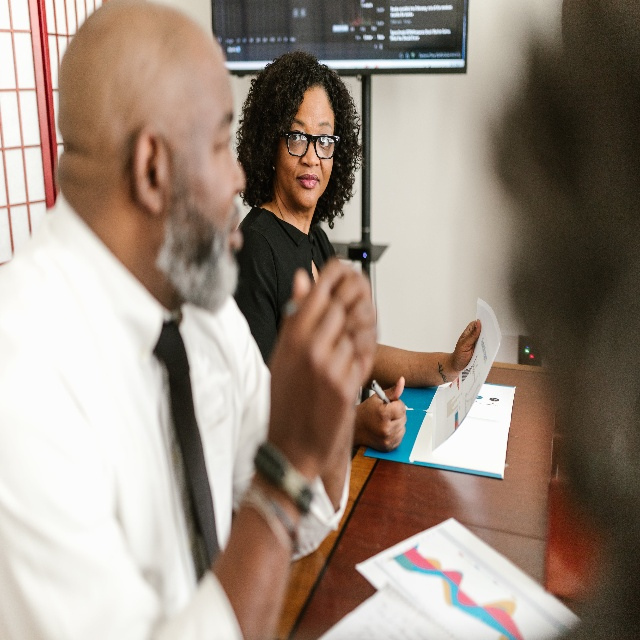Gafas: (285, 125, 336, 160)
Sin_guantes: (262, 275, 353, 472), (319, 260, 376, 381), (361, 374, 407, 445), (450, 313, 483, 383)
